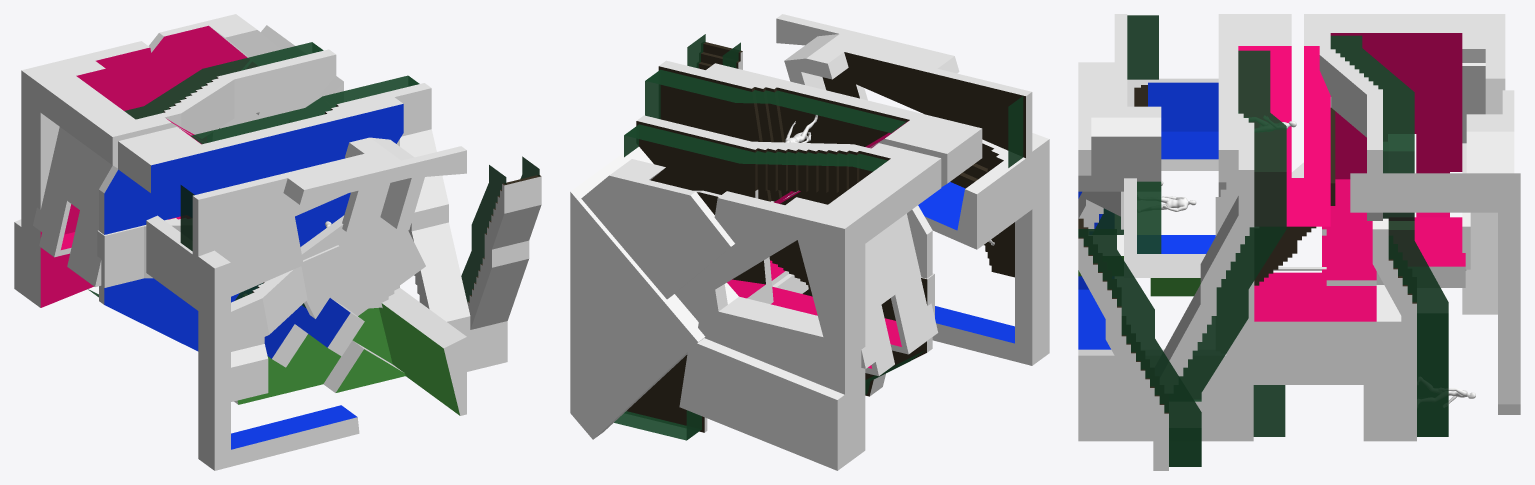
File: HouseLevel.fbx
3 renders of one model, left to right at view 1: azimuth 30°, elevation 25°; view 2: azimuth 150°, elevation 25°; view 3: azimuth 270°, elevation 25°, orthographic. The views are drawn at different scales.
Visible parts, largest first — view 1: Layer 01, Layer 03, Layer 02, Layer 04; view 2: Layer 04, Layer 03, Layer 01, Layer 02; view 3: Layer 03, Layer 01, Layer 02, Layer 04.
Part boxes in pixels (x1=…): Layer 01: x1=151, y1=137, x2=541, y2=470; Layer 03: x1=36, y1=42, x2=343, y2=351; Layer 02: x1=105, y1=75, x2=436, y2=404; Layer 04: x1=14, y1=14, x2=292, y2=307; Layer 04: x1=570, y1=159, x2=869, y2=470; Layer 03: x1=598, y1=115, x2=938, y2=440; Layer 01: x1=687, y1=14, x2=1049, y2=365; Layer 02: x1=645, y1=60, x2=982, y2=396; Layer 03: x1=1319, y1=14, x2=1475, y2=441; Layer 01: x1=1078, y1=14, x2=1218, y2=470; Layer 02: x1=1218, y1=14, x2=1319, y2=441; Layer 04: x1=1462, y1=14, x2=1520, y2=414.
Bounding box in the file's own units: 13.45 × 13.97 × 10.16.
